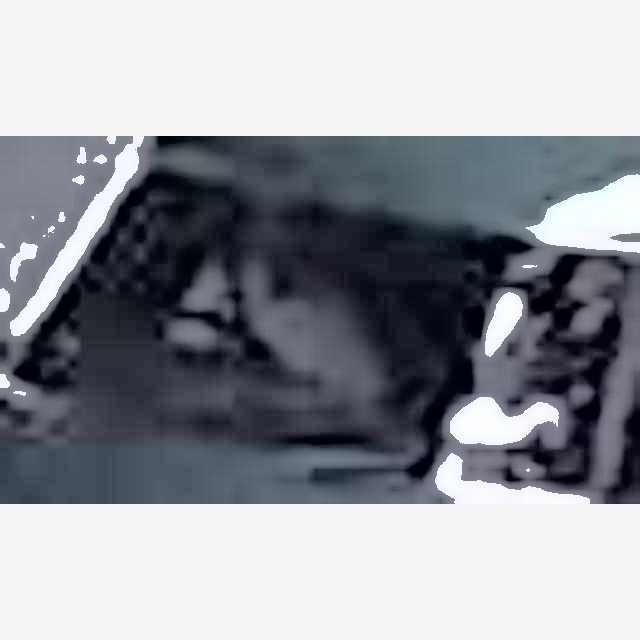pakai: (145, 184, 417, 427)
